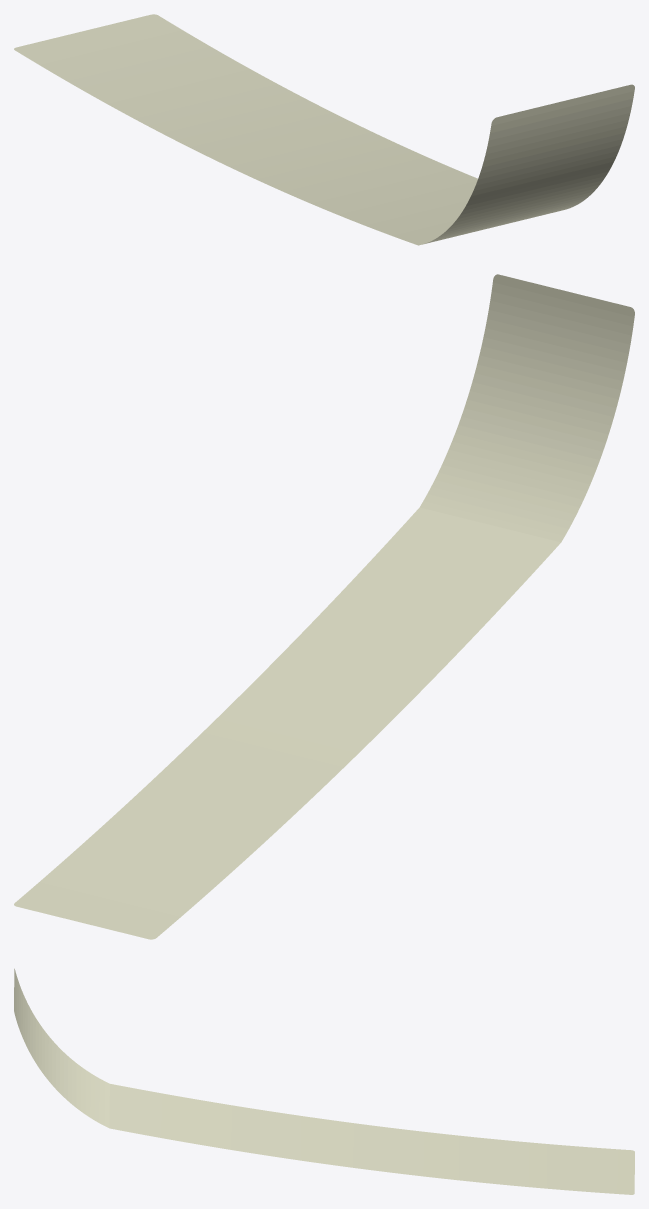
File: original-7.obj
3 views of the same model, one above another, from view 1: azimuth 30°, elevation 25°; view 2: azimuth 150°, elevation 25°; view 3: azimuth 270°, elevation 25° (orthographic). The views are drawn at different scales.
Parts seen in each view (by area): view 1: #ID55; view 2: #ID55; view 3: #ID55.
Boxes of the visible parts, x1,y1,x2,y2 form: #ID55: (14,14,634,245); #ID55: (14,274,634,939); #ID55: (14,968,634,1194).
Size of the model in its own units: 0.2087 by 0.3887 by 1.2.
